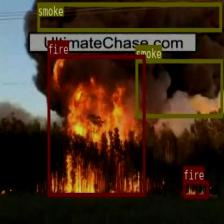fire: (47, 54, 145, 196), (182, 180, 208, 198)
smoke: (37, 2, 221, 32), (135, 58, 222, 116)
